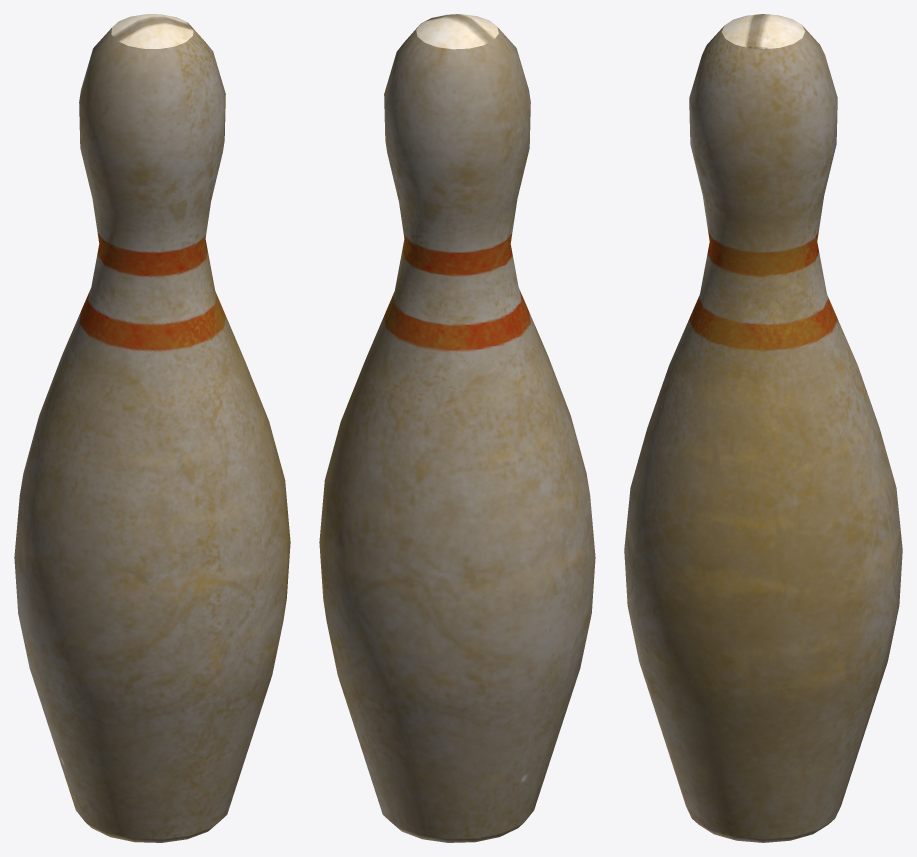
The model's file is SM_BowlingPins_004.fbx.
3 views of the same model, side by side, from view 1: azimuth 30°, elevation 25°; view 2: azimuth 150°, elevation 25°; view 3: azimuth 270°, elevation 25° (orthographic).
Parts seen in each view (by area): view 1: SM_BowlingPins_004; view 2: SM_BowlingPins_004; view 3: SM_BowlingPins_004.
Boxes of the visible parts, bbox=[...] form: SM_BowlingPins_004: bbox=[14, 14, 290, 842]; SM_BowlingPins_004: bbox=[319, 14, 595, 842]; SM_BowlingPins_004: bbox=[624, 14, 902, 842].
Bounding box in the file's own units: 7.8 × 7.8 × 24.7.
Materials: 1 (1 with a texture image).
